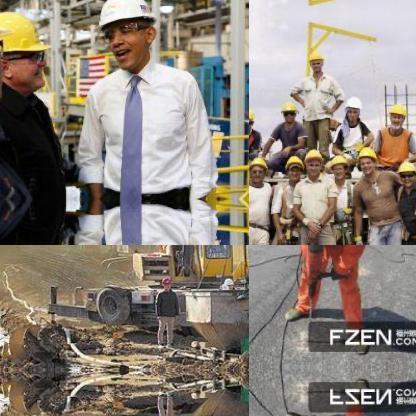Helmet: (91, 0, 159, 74), (0, 5, 50, 96), (383, 99, 407, 129), (342, 92, 364, 121), (355, 146, 377, 174), (305, 45, 325, 75), (395, 159, 415, 189), (329, 152, 349, 180), (304, 147, 322, 177), (284, 152, 302, 182), (249, 155, 268, 183), (282, 100, 296, 126), (158, 272, 172, 292), (249, 103, 255, 135)
